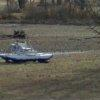Boat: (2, 39, 55, 70)
